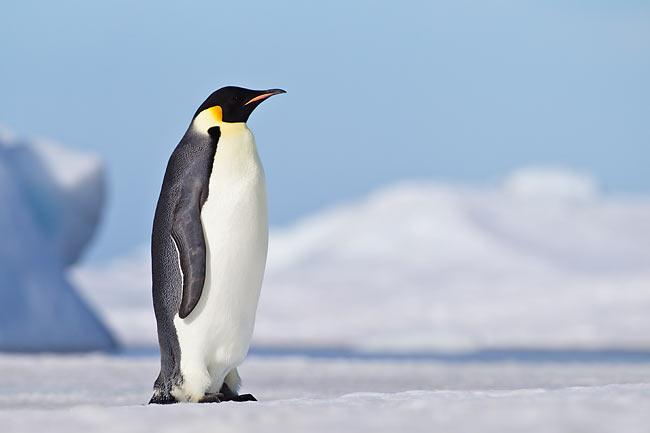emporer: (124, 74, 309, 418)
